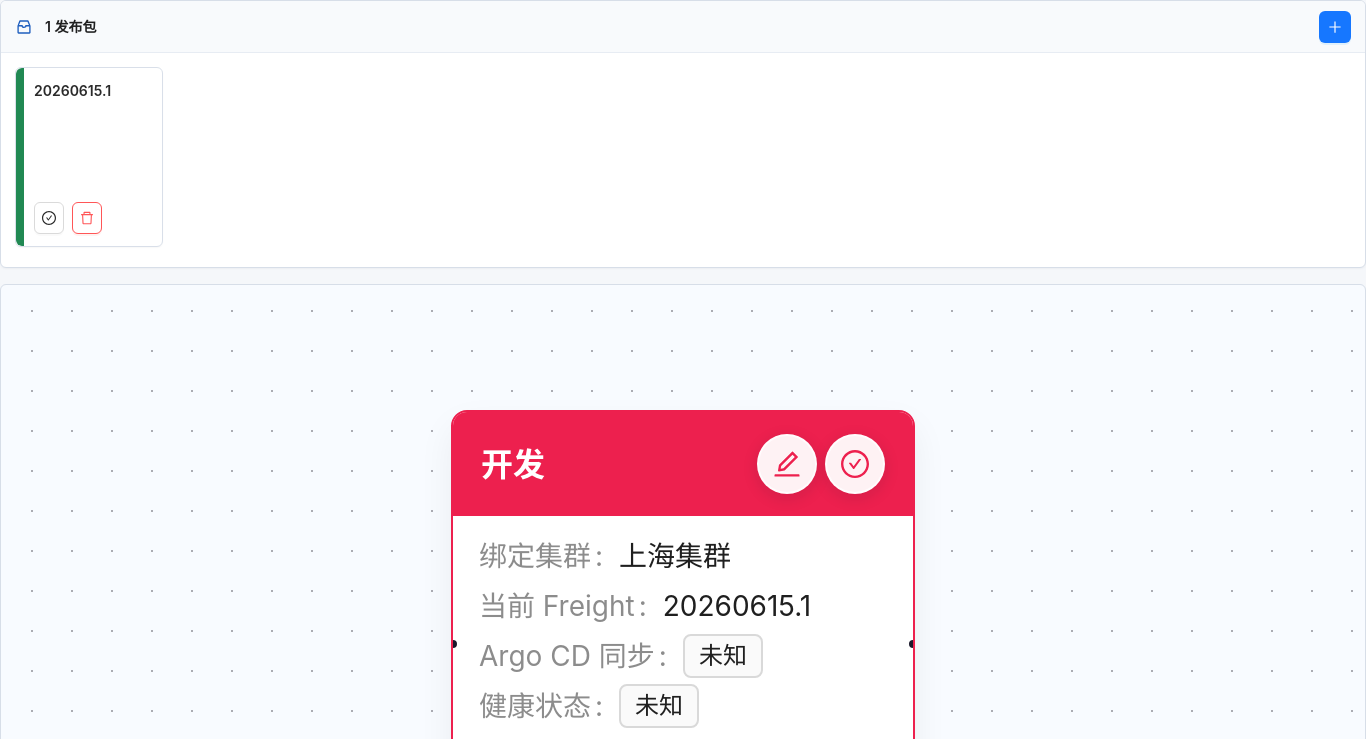
Test: 真实 API 归档 Freight 后刷新时间轴并隐藏卡片
Click the button named "归档": click(87, 218) [72,202,102,234]
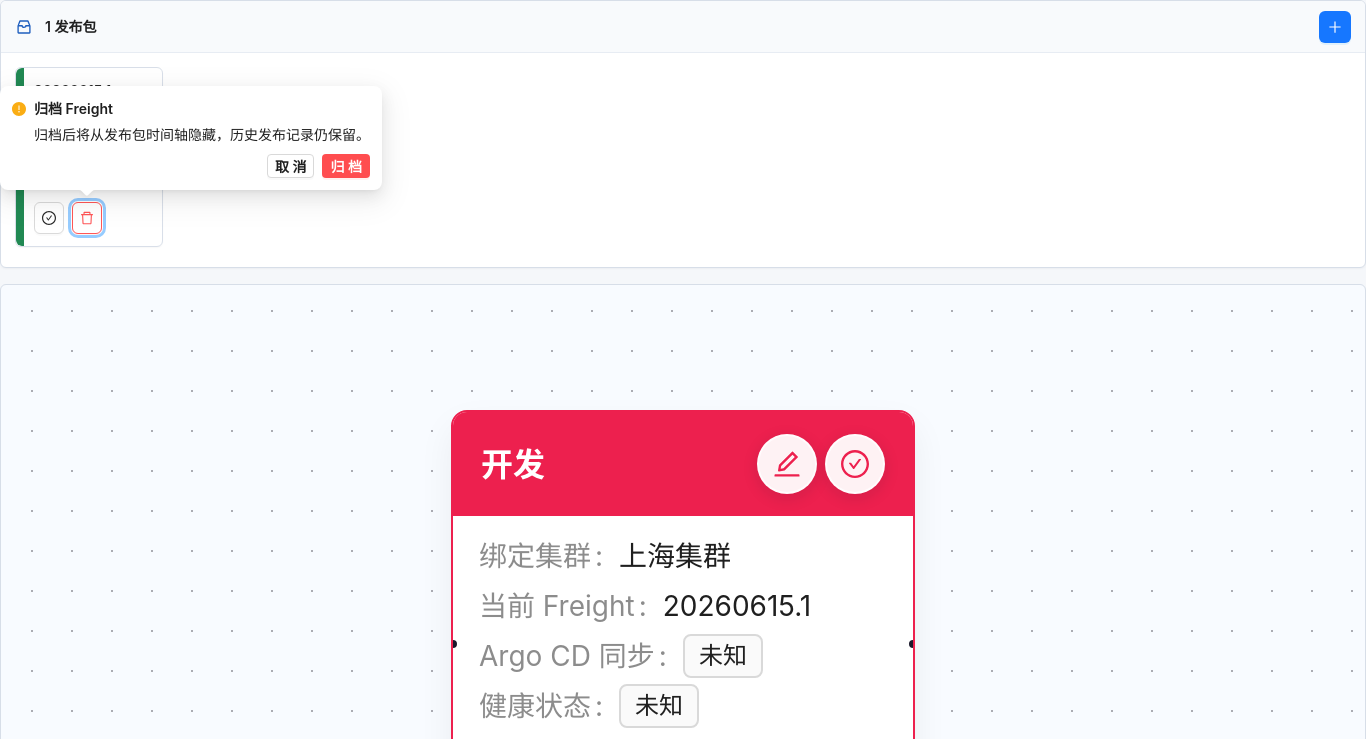
Click the button "归 档": click(346, 166) [322,154,370,178]
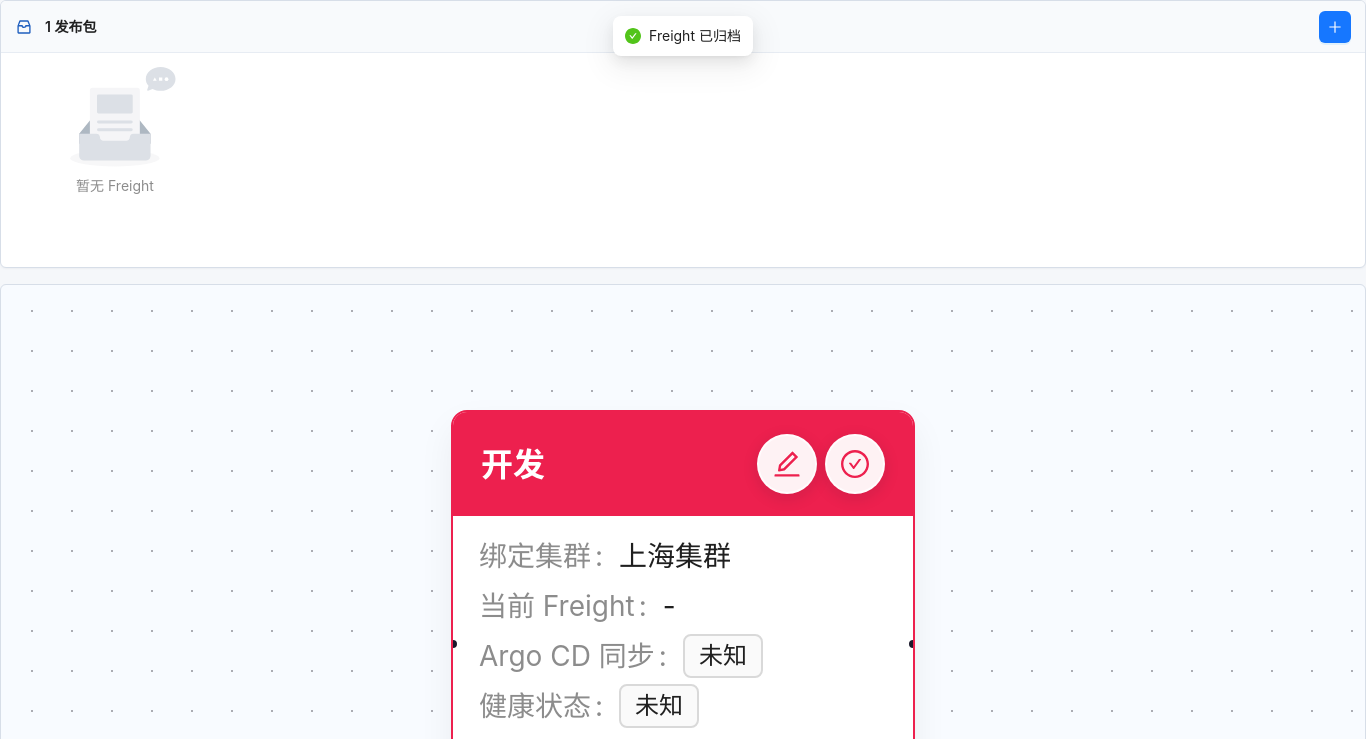
expect the element with test id "freight-card" is gone: met
